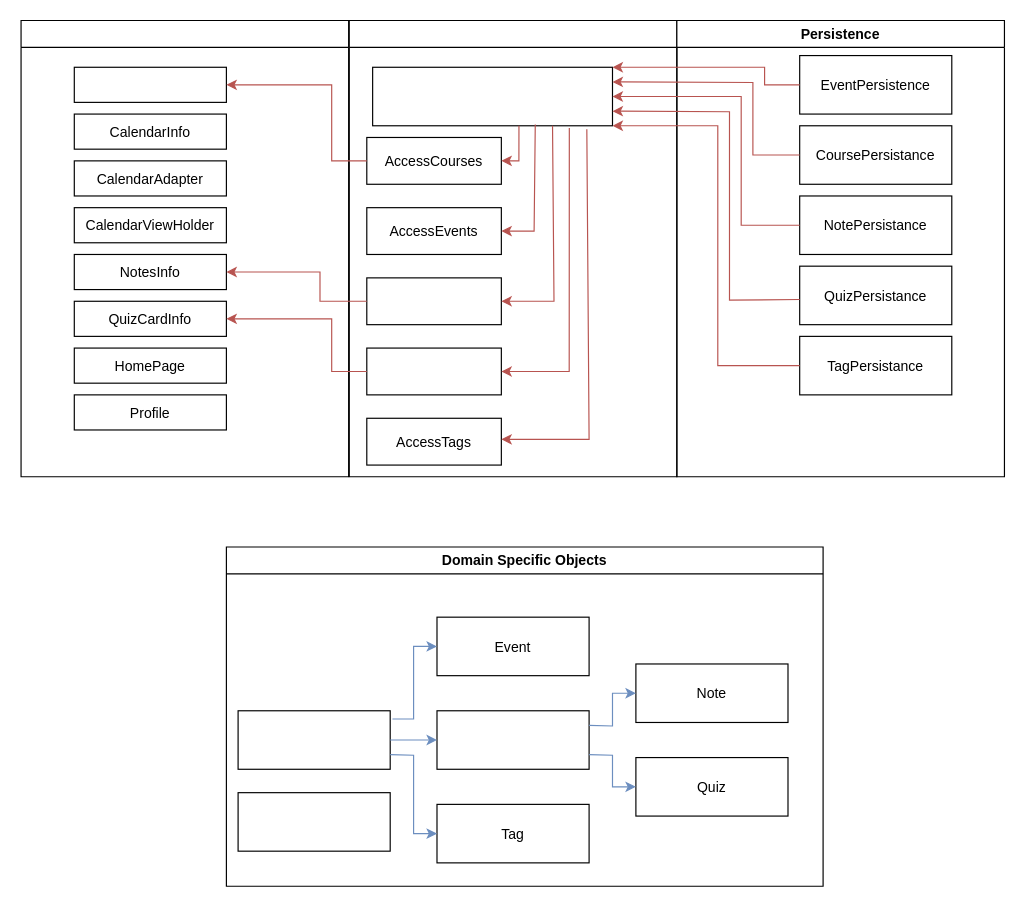
This 1025x907 diagram has some shape labels left out. Here are the shapes that lost their labels. From the top down, the box of each, then its label:
(73, 66, 226, 102): ClassesInfo
(371, 66, 612, 126): Services
(20, 19, 349, 477): Presentation
(348, 19, 677, 477): Business Logic
(366, 277, 501, 325): AccessNotes
(366, 347, 501, 395): AccessQuizzes
(237, 710, 390, 769): Item
(436, 710, 589, 769): Card
(237, 792, 390, 851): Course
